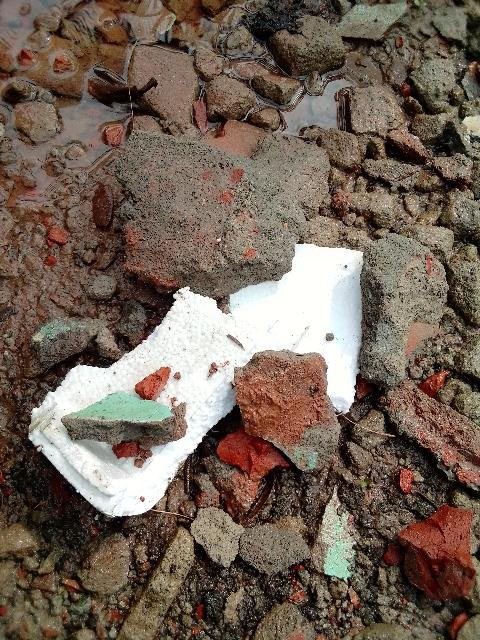cocksheet: (22, 274, 286, 534), (216, 248, 362, 414)
